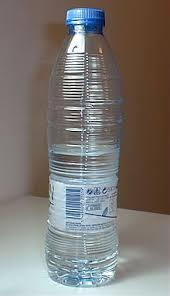Plastic bottle: (39, 2, 123, 295)
